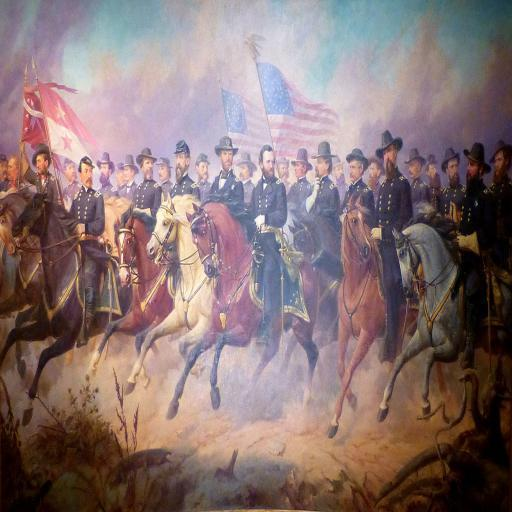horse: (0, 184, 511, 438)
